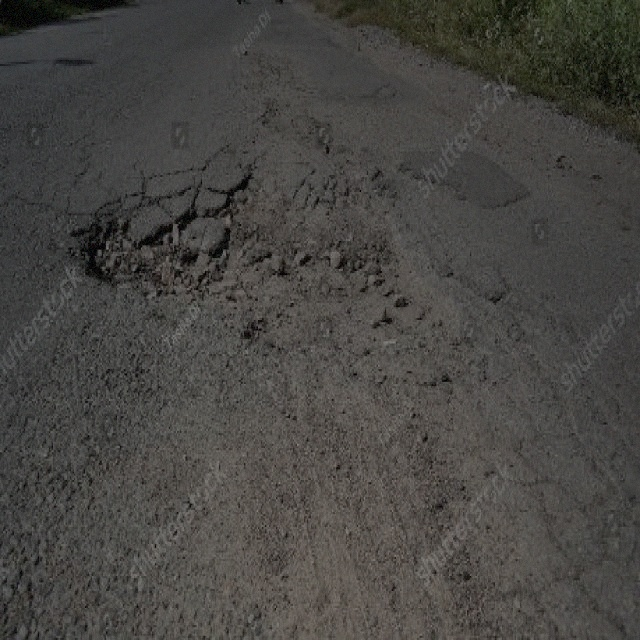pothole: (71, 162, 250, 299)
